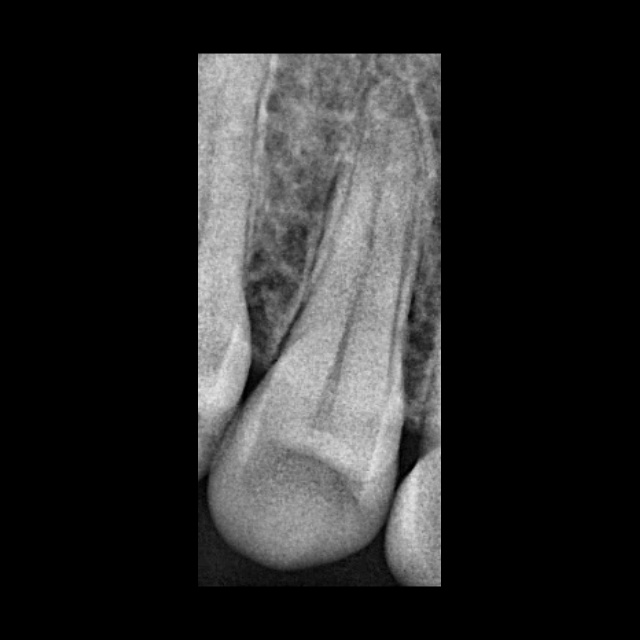tooth: (208, 76, 428, 574)
